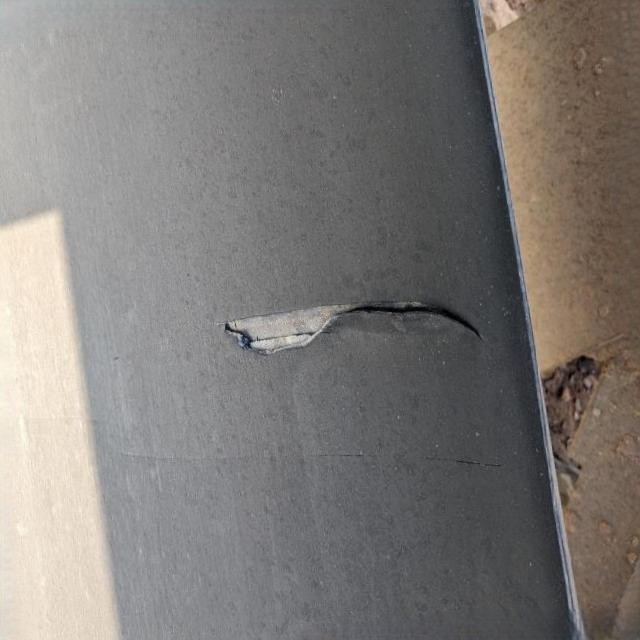Tear: (217, 298, 486, 364)
